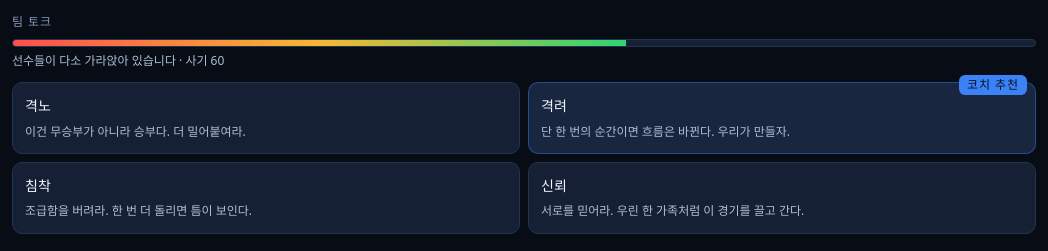
it: TeamTalk 컴포넌트 › 반복 감쇠: 지난 경기와 같은 톤이면 효과 반감 + 안내 문구
This screenshot has width=1048, height=251.
Click the button "침착 조급함을 버려라. 한 번 더 돌리면 틈이 보인다." at (138,211), box [12, 162, 520, 234]
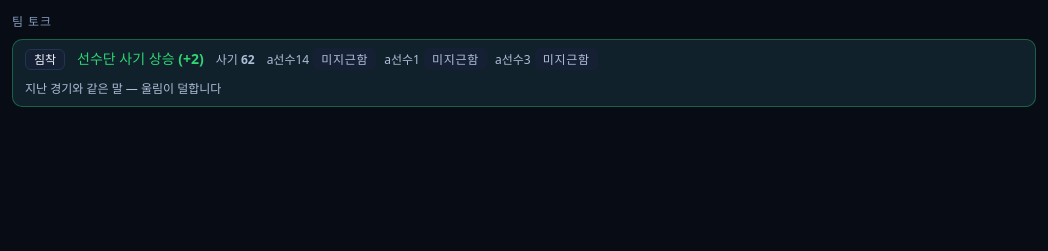
Expected: the message with class "tt-banner" shows "+2", [77, 49, 204, 68]
Expected: the message with class "tt-banner" shows "울림이 덜합니다", [25, 80, 221, 97]
